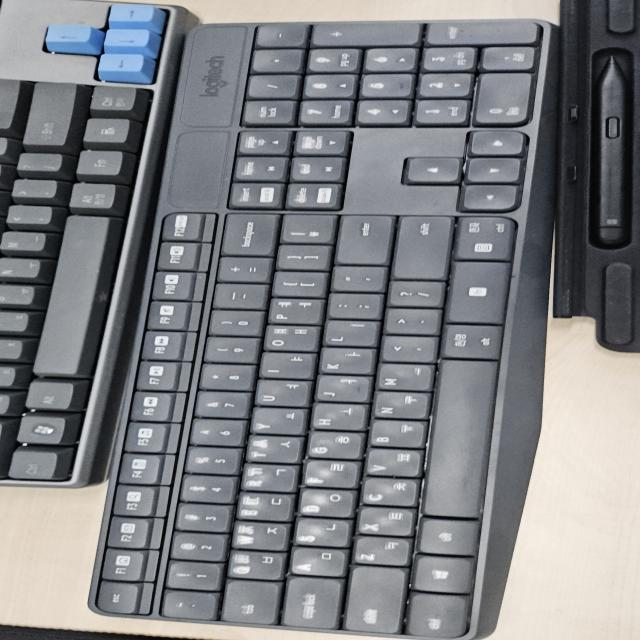Keyboard: (105, 22, 542, 639)
